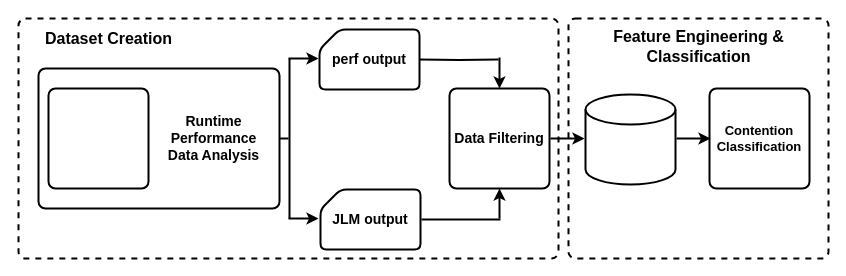
The diagram is 846 pixels wide and 276 high, and some of its shapes have lost their labels. The shapes that lost their labels are listed below. From the top down, each one's centre as x and y in pixels, then its label:
point (98, 138): Compiled Java Program Execution
point (630, 139): Performance Data
